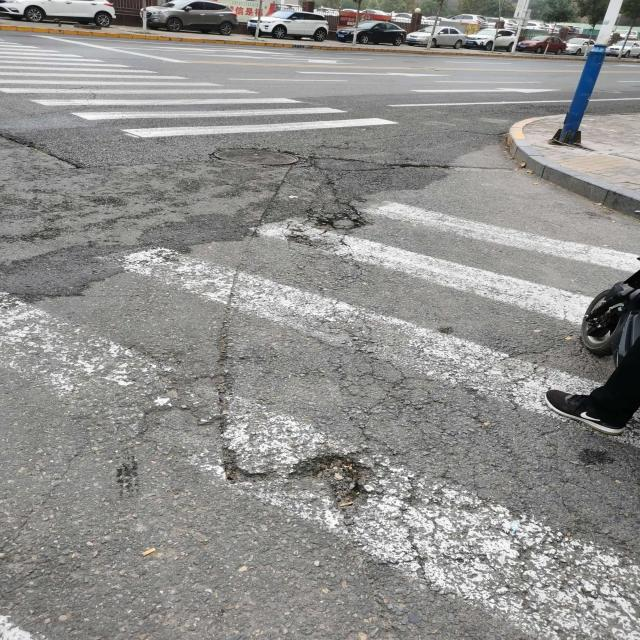Pothole: (223, 451, 381, 530), (223, 154, 458, 176), (307, 208, 376, 240)
